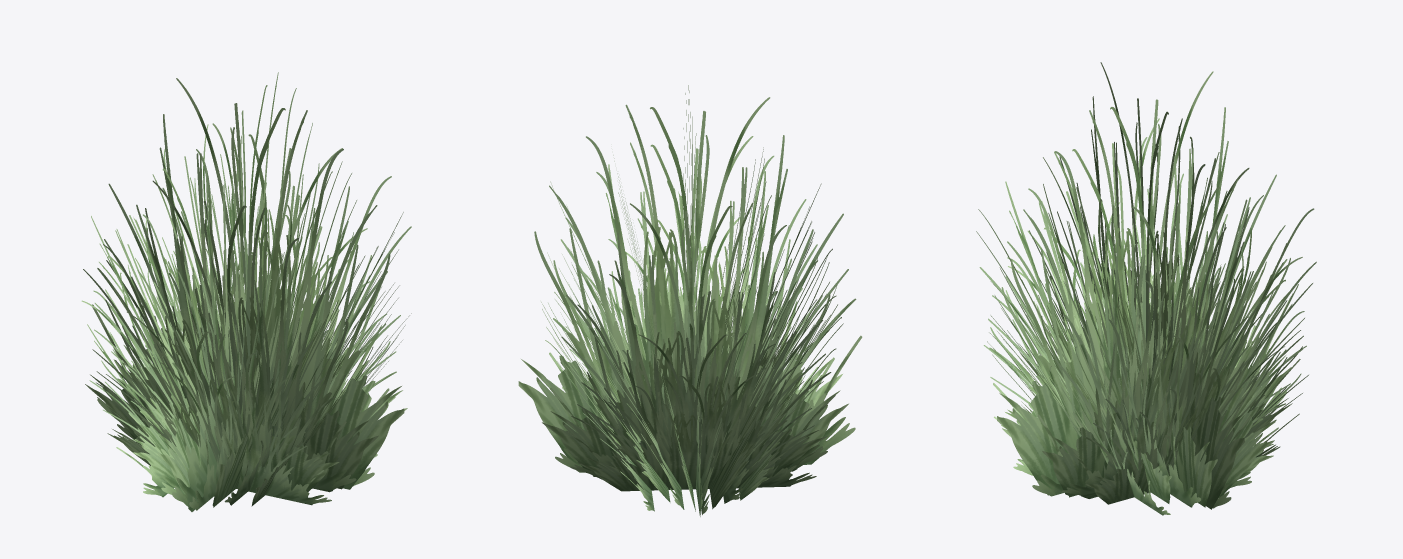
File: LavenderHarvested.fbx
3 renders of one model, left to right at view 1: azimuth 30°, elevation 25°; view 2: azimuth 150°, elevation 25°; view 3: azimuth 270°, elevation 25°, orthographic. The views are drawn at different scales.
Visible parts, largest first — view 1: Plane.014, Plane.019, Plane.020, Plane.081, Plane.021, Plane.080, Plane.082, Plane.015, Plane.016, Plane.086, Plane.083, Plane.087 (+5 smaller); view 2: Plane.081, Plane.083, Plane.082, Plane.085, Plane.084, Plane.086, Plane.087, Plane.020, Plane.019, Plane.021, Plane.016, Plane.014 (+6 smaller); view 3: Plane.014, Plane.081, Plane.016, Plane.015, Plane.086, Plane.083, Plane.017, Plane.019, Plane.018, Plane.087, Plane.082, Plane.020 (+6 smaller).
Boxes of the visible parts, x1=… form: Plane.014: x1=92, y1=78, x2=404, y2=489; Plane.019: x1=103, y1=180, x2=378, y2=489; Plane.020: x1=83, y1=244, x2=356, y2=492; Plane.081: x1=169, y1=72, x2=319, y2=511; Plane.021: x1=92, y1=312, x2=339, y2=491; Plane.080: x1=102, y1=358, x2=331, y2=505; Plane.082: x1=137, y1=124, x2=269, y2=494; Plane.015: x1=113, y1=127, x2=389, y2=486; Plane.016: x1=168, y1=169, x2=411, y2=419; Plane.086: x1=189, y1=161, x2=356, y2=510; Plane.083: x1=91, y1=149, x2=222, y2=494; Plane.087: x1=212, y1=212, x2=403, y2=507; Plane.081: x1=518, y1=97, x2=862, y2=465; Plane.083: x1=542, y1=272, x2=835, y2=476; Plane.082: x1=549, y1=202, x2=848, y2=472; Plane.085: x1=579, y1=371, x2=822, y2=491; Plane.084: x1=566, y1=333, x2=827, y2=479; Plane.086: x1=553, y1=136, x2=834, y2=403; Plane.087: x1=549, y1=155, x2=842, y2=405; Plane.020: x1=709, y1=183, x2=832, y2=509; Plane.019: x1=700, y1=147, x2=771, y2=514; Plane.021: x1=723, y1=255, x2=836, y2=503; Plane.016: x1=550, y1=181, x2=684, y2=509; Plane.014: x1=682, y1=85, x2=702, y2=516; Plane.014: x1=997, y1=71, x2=1291, y2=495; Plane.081: x1=1050, y1=62, x2=1244, y2=509; Plane.016: x1=1042, y1=243, x2=1312, y2=497; Plane.015: x1=1032, y1=179, x2=1291, y2=496; Plane.086: x1=1029, y1=157, x2=1217, y2=507; Plane.083: x1=1135, y1=152, x2=1316, y2=497; Plane.017: x1=1062, y1=311, x2=1302, y2=498; Plane.019: x1=1001, y1=118, x2=1255, y2=437; Plane.018: x1=1085, y1=346, x2=1308, y2=504; Plane.087: x1=976, y1=209, x2=1200, y2=507; Plane.082: x1=1111, y1=126, x2=1263, y2=508; Plane.020: x1=979, y1=137, x2=1251, y2=475.
Bounding box in the file's own units: 44.51 × 40.12 × 44.51.
